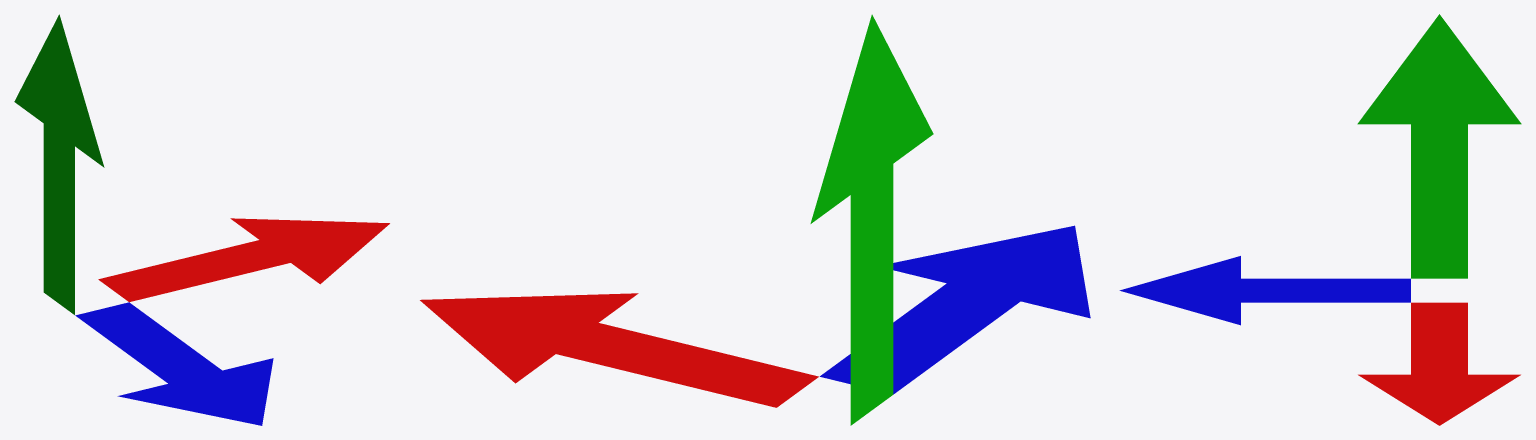
3 renders of one model, left to right at view 1: azimuth 30°, elevation 25°; view 2: azimuth 150°, elevation 25°; view 3: azimuth 270°, elevation 25°, orthographic. The views are drawn at different scales.
Visible parts, largest first — view 1: __MTU_Mesh__; view 2: __MTU_Mesh__; view 3: __MTU_Mesh__.
Part boxes in pixels (left/top/right/bottom): __MTU_Mesh__: left=14, top=14, right=389, bottom=425; __MTU_Mesh__: left=420, top=14, right=1090, bottom=425; __MTU_Mesh__: left=1119, top=14, right=1521, bottom=425.
Bounding box in the file's own units: 42.34 × 30.68 × 42.34.
